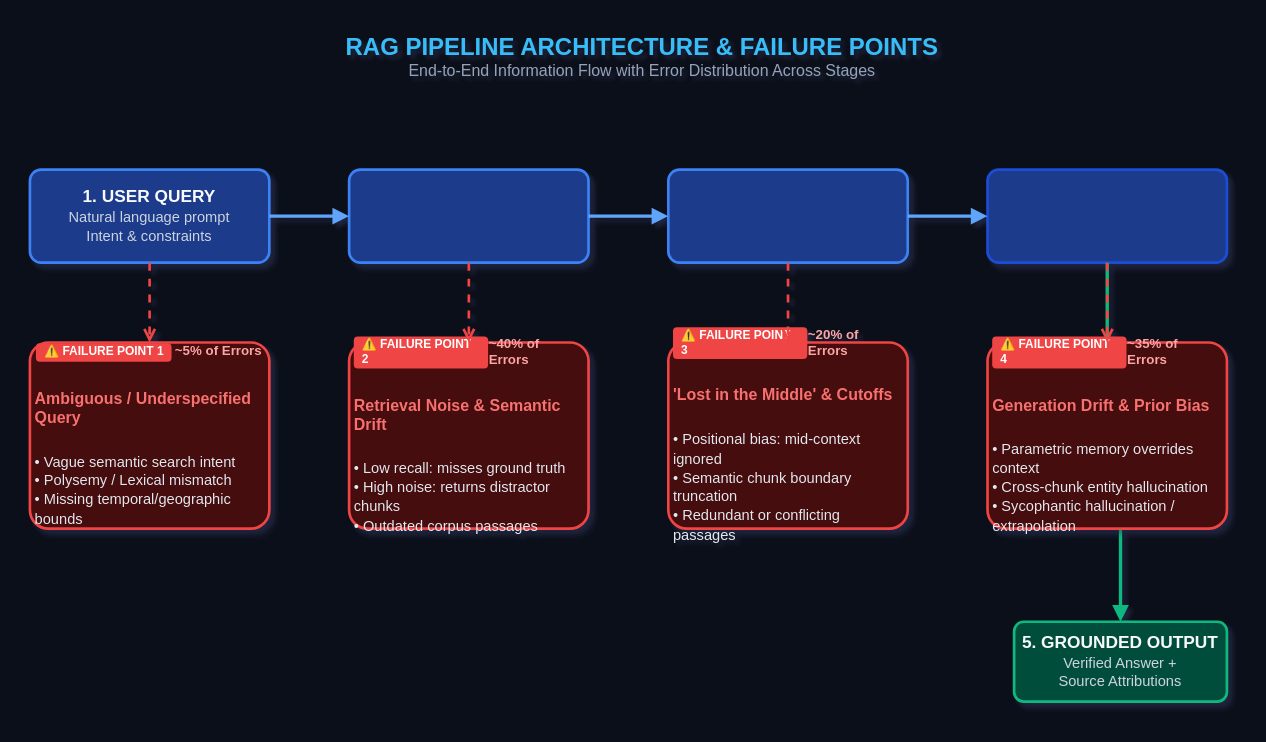
Some shapes in this 1266 by 742 pixel diagram are drawn without their labels. The centre of each missing label's shape, as x and y in pixels:
2. RETRIEVER Dense (DPR/HNSW) + Sparse (BM25) search: (469,217)
3. CONTEXT ASSEMBLY Reranking, truncation & prompt template packing: (788,217)
4. LLM GENERATOR Autoregressive decoding & factual synthesis: (1108,217)
